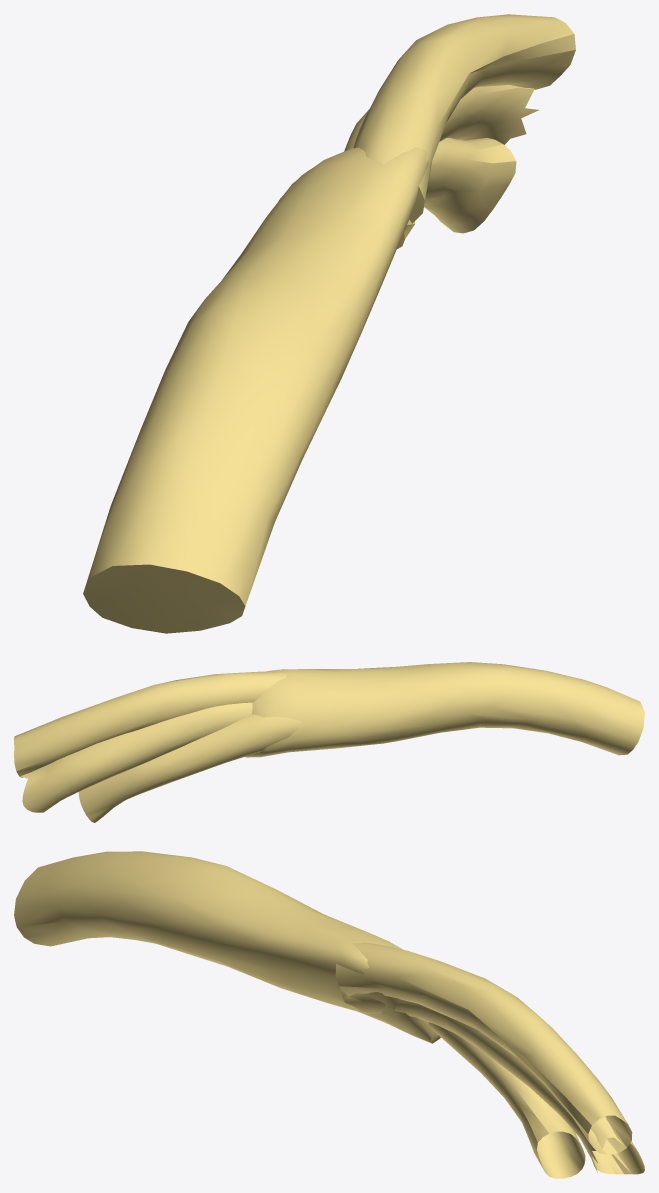
Rendered from fma18177_mm2634m.glb.
The picture shows the model from 3 angles, top to bottom: view 1: azimuth 30°, elevation 25°; view 2: azimuth 150°, elevation 25°; view 3: azimuth 270°, elevation 25°; orthographic projection. The views are drawn at different scales.
Parts seen in each view (by area): view 1: FMA18177_MM2634M; view 2: FMA18177_MM2634M; view 3: FMA18177_MM2634M.
Part boxes in pixels (x1,y1,x2,y2): FMA18177_MM2634M: (83,14,575,633); FMA18177_MM2634M: (14,662,644,822); FMA18177_MM2634M: (14,851,644,1178).
Size of the model in its own units: 0.0141 by 0.0039 by 0.0131.
